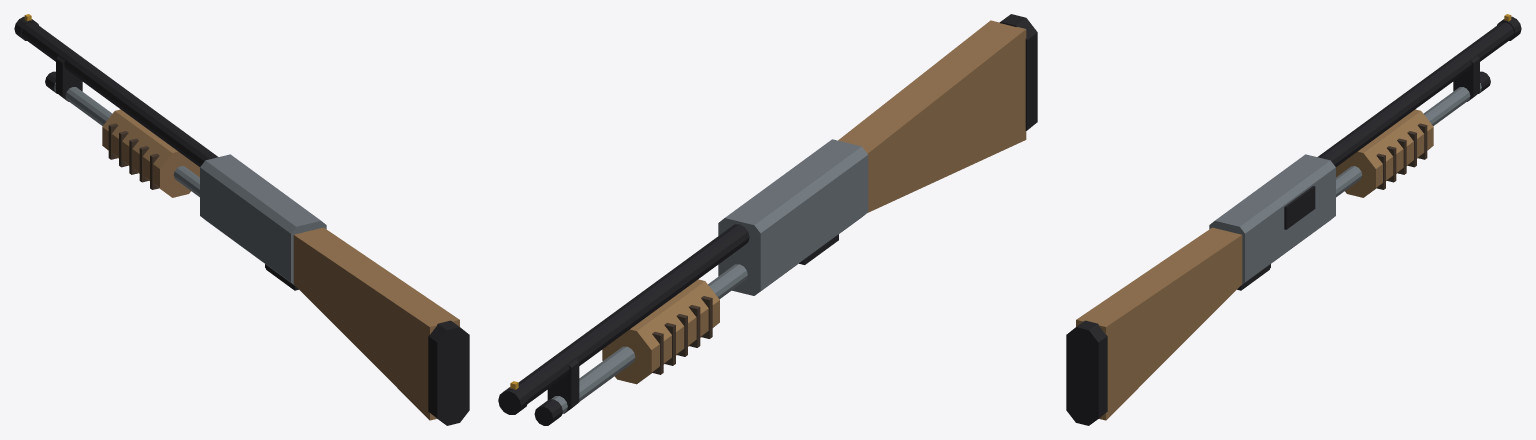
The model's file is shotgun.glb.
3 views of the same model, side by side, from view 1: azimuth 30°, elevation 25°; view 2: azimuth 150°, elevation 25°; view 3: azimuth 330°, elevation 25° (orthographic). The views are drawn at different scales.
Visible parts, largest first — view 1: shotgun; view 2: shotgun; view 3: shotgun.
Part boxes in pixels (<box>): shotgun: <box>14,14,469,425</box>; shotgun: <box>498,14,1037,425</box>; shotgun: <box>1066,14,1521,425</box>.
Size of the model in its own units: 0.06 by 0.1305 by 1.04.
1 material, 1 textured.
